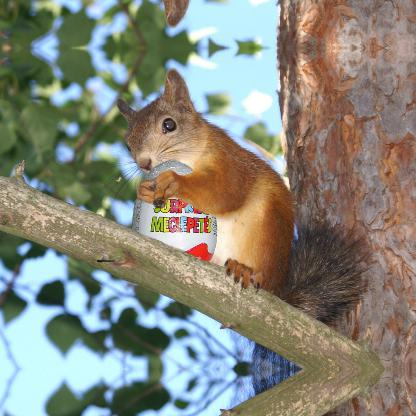Squirrel: (87, 67, 379, 368)
